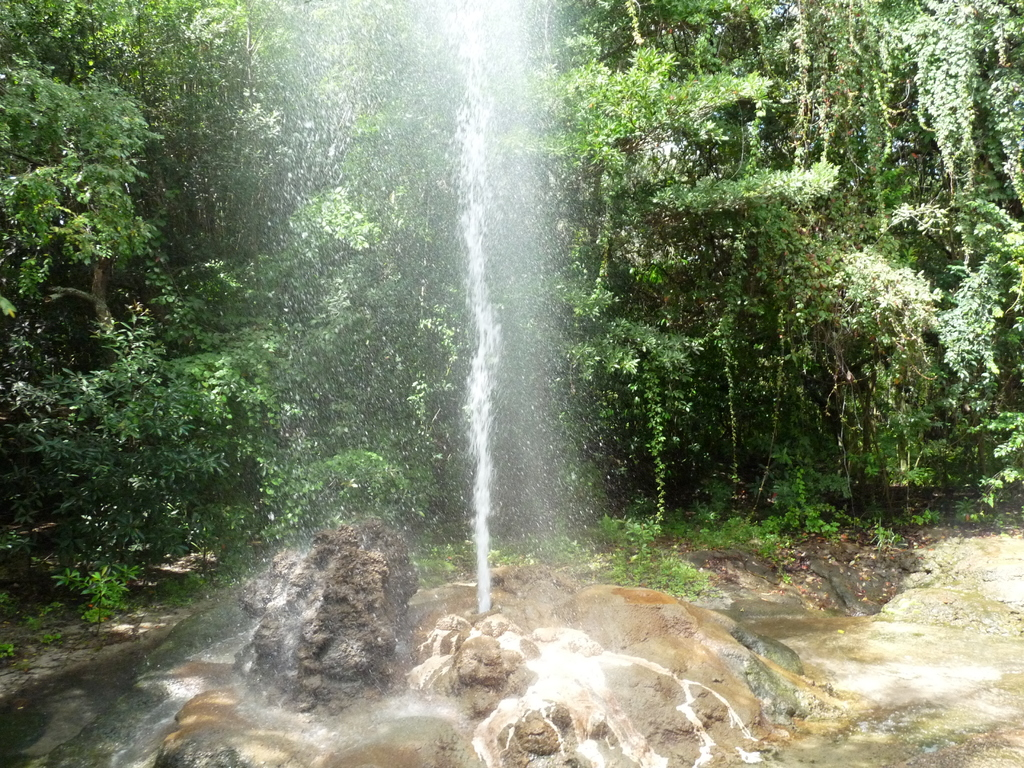Tree: (0, 0, 1023, 578)
